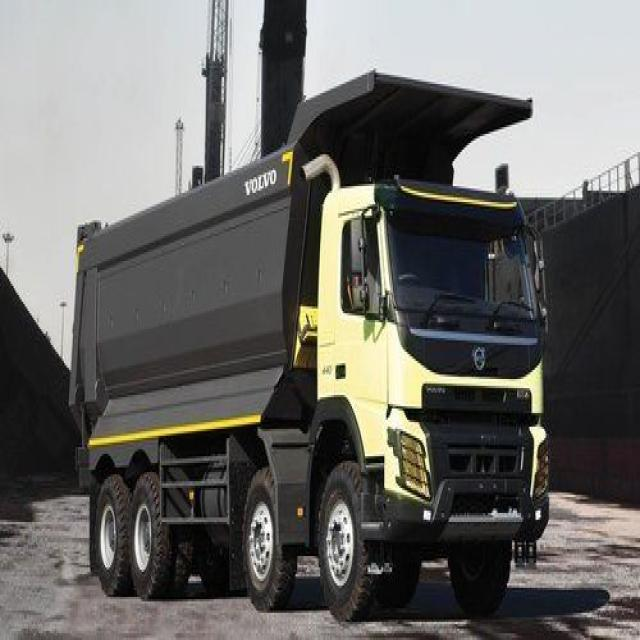dump_truck: (52, 68, 560, 626)
